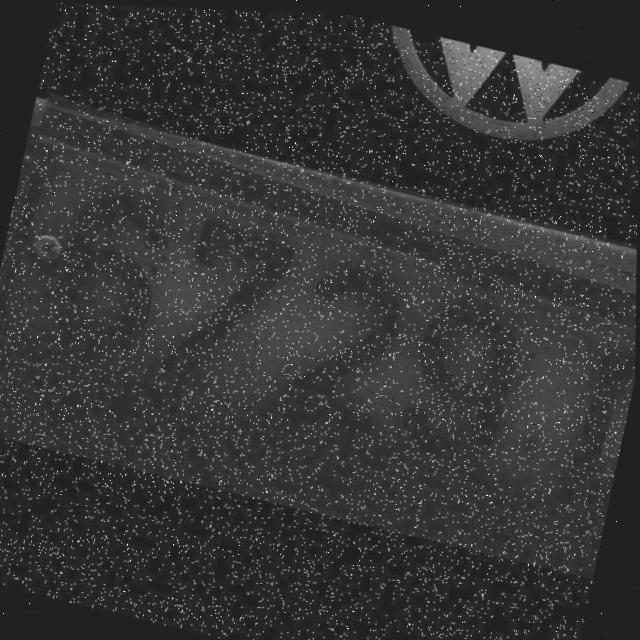LicensePlate: (0, 100, 639, 575)
